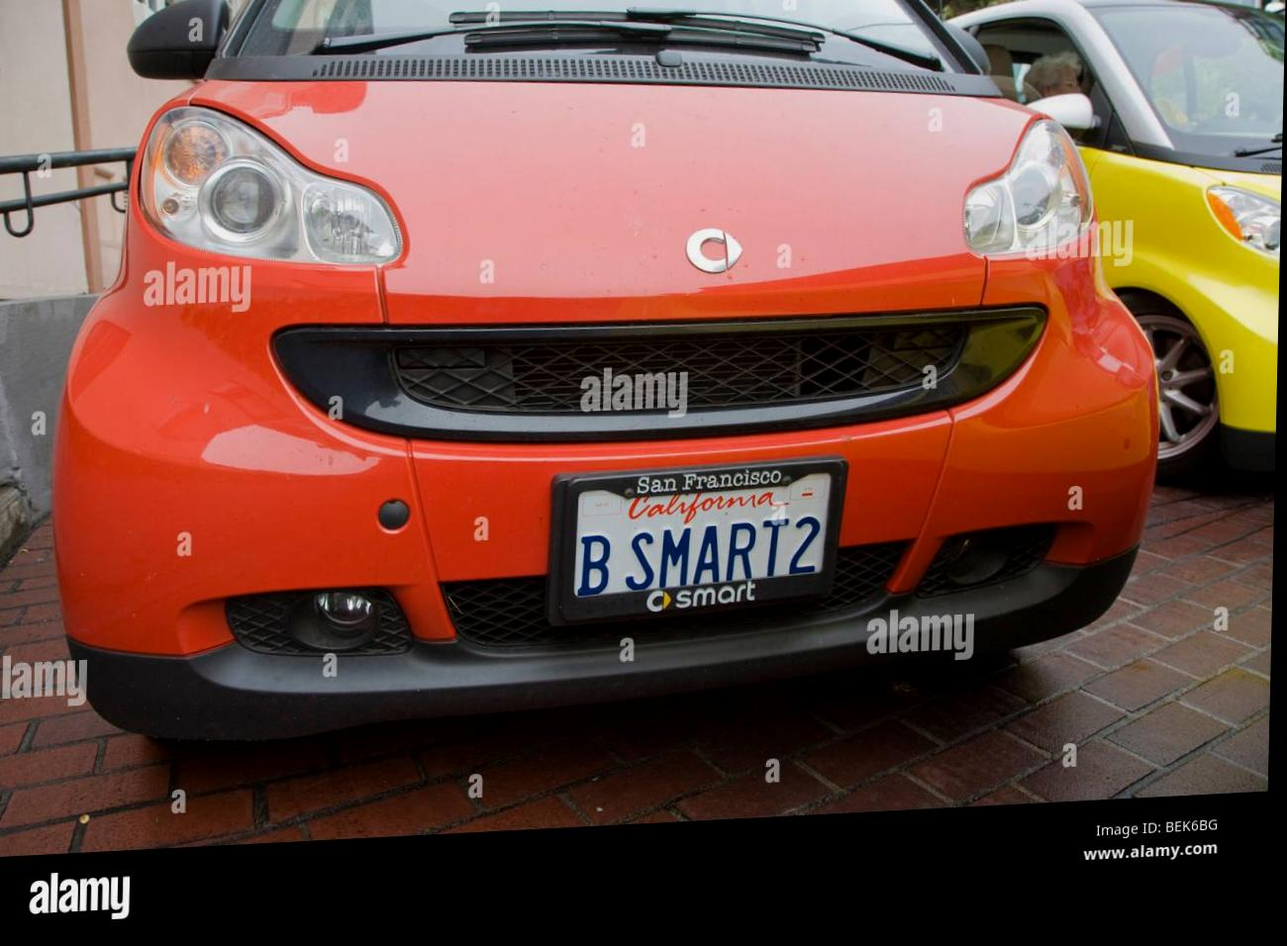License_Plate: (546, 450, 845, 624)
